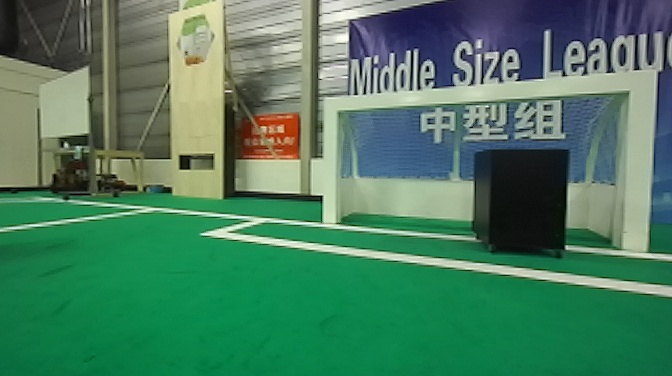goalpost: (628, 66, 655, 253), (322, 94, 344, 226)
